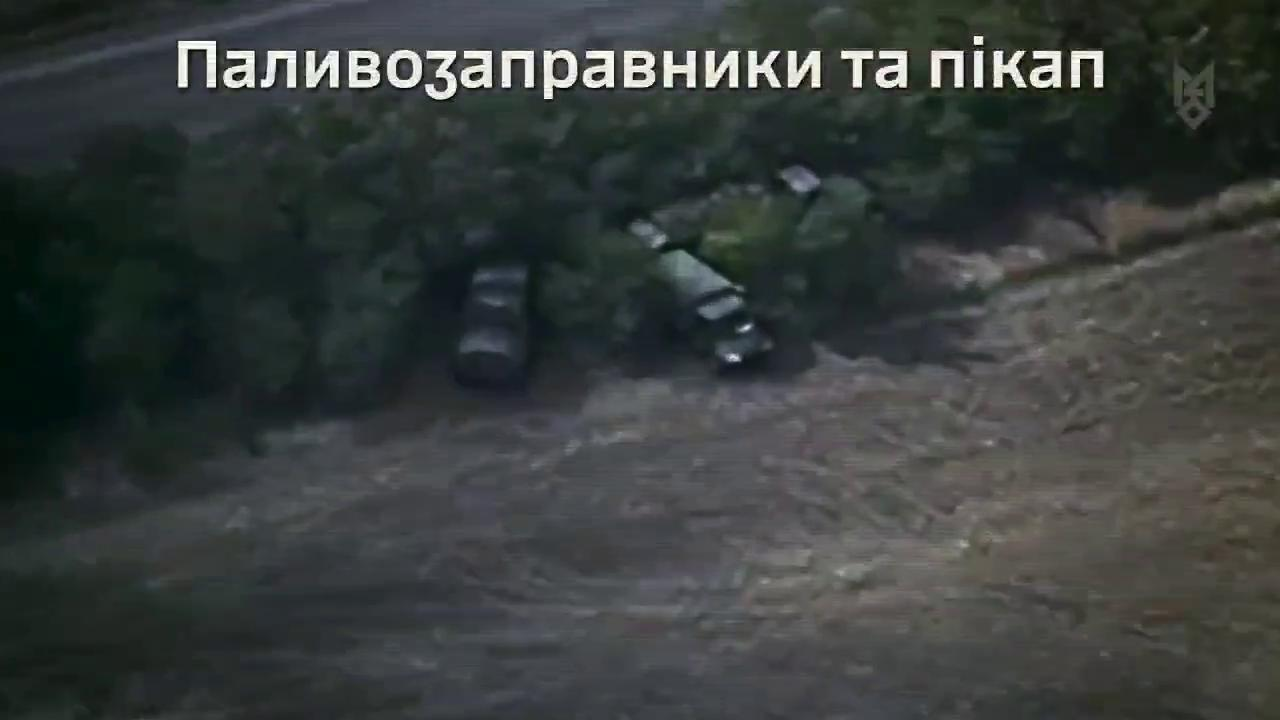tank: (624, 160, 831, 267), (635, 245, 777, 376), (451, 253, 538, 388)
